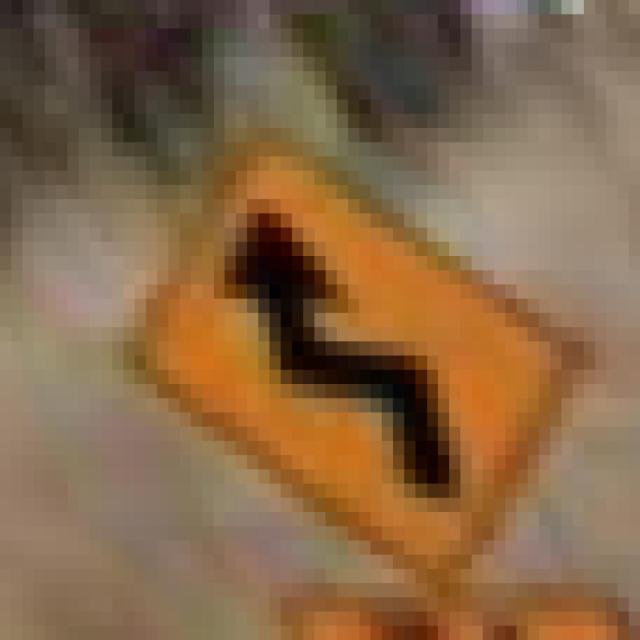Tikungan Ganda Pertama Ke Kiri: (101, 85, 584, 583)
